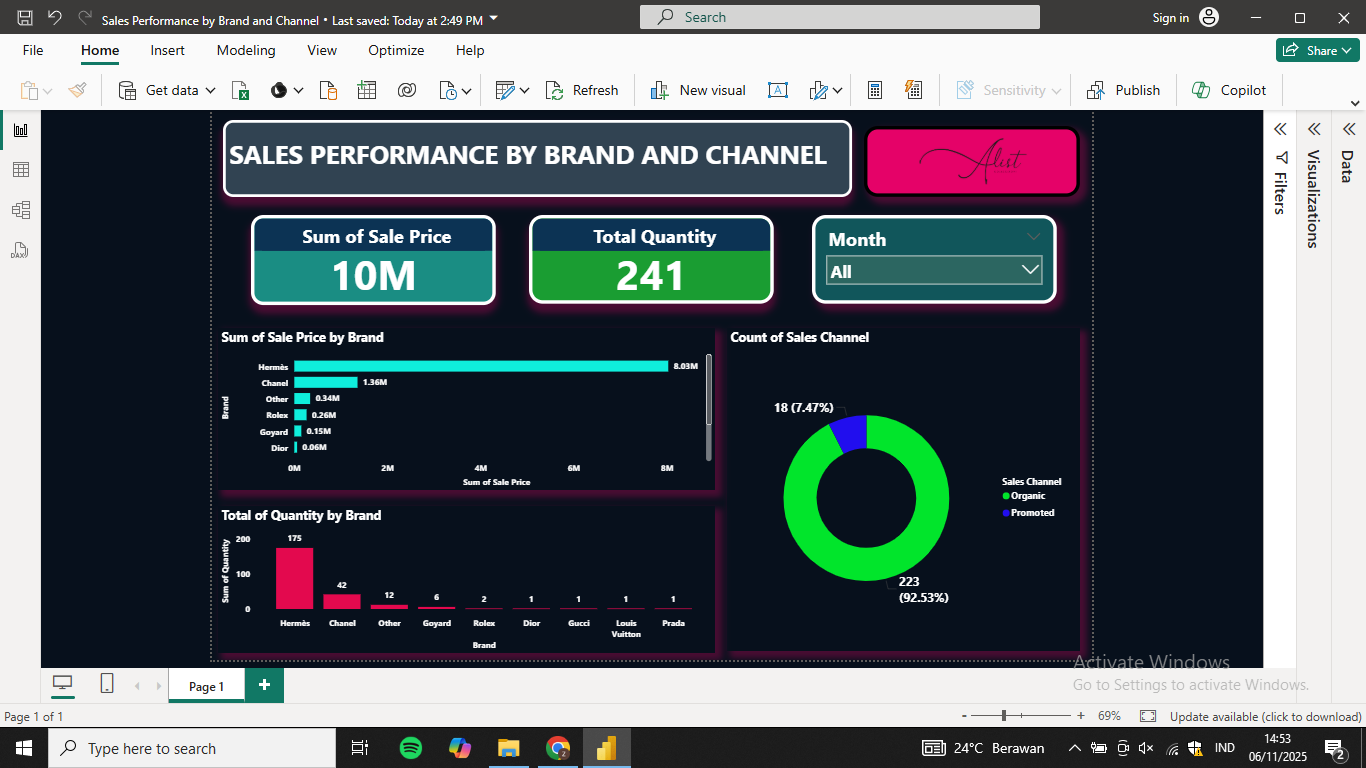

The page's visual inventory and layout, read from the dashboard file:
{"tool":"powerbi","page":{"name":"SALES PERFORMANCE BY BRAND AND CHANNEL","canvas":[1280,800],"ordinal":0},"visuals":[{"type":"card","title":"Sum of Sale Price","fields":{"Values":["clean_data.SalePrice"]},"box":[56.7,152.7,356.4,130.9],"z":0},{"type":"card","title":"Total Quantity","fields":{"Values":["clean_data.Quantity"]},"box":[461.1,152.7,356.4,129.5],"z":1000},{"type":"donutChart","title":"Count of Sales Channel","fields":{"Y":["clean_data.SalesChannel"],"Category":["clean_data.SalesChannel"]},"box":[749.1,317.1,513.5,469.8],"z":2000},{"type":"barChart","title":"Sum of Sale Price by Brand","fields":{"Y":["clean_data.SalePrice"],"Category":["clean_data.Brand"]},"box":[8.7,317.1,722.9,235.6],"z":3000},{"type":"columnChart","title":"Total of Quantity by Brand","fields":{"Y":["clean_data.Quantity"],"Category":["clean_data.Brand"]},"box":[8.7,576,722.9,213.8],"z":4000},{"type":"textbox","box":[16,14.5,914.9,112],"z":5000},{"type":"slicer","fields":{"Values":["clean_data.SaleDate.Variation.Date Hierarchy.Month"]},"box":[872.7,152.7,356.4,129.5],"z":6000},{"type":"image","box":[948.4,23.3,314.2,103.3],"z":7000}]}

Visuals, with their boxes on the page's 1280x800 design canvas (x1, y1, x2, y2). These are canvas units, not pixel positions in the 1366x768 screenshot, which may show the page scaled, cropped or inside an application window:
"Sum of Sale Price" card: bbox(57, 153, 413, 284)
"Total Quantity" card: bbox(461, 153, 818, 282)
"Count of Sales Channel" donutChart: bbox(749, 317, 1263, 787)
"Sum of Sale Price by Brand" barChart: bbox(9, 317, 732, 553)
"Total of Quantity by Brand" columnChart: bbox(9, 576, 732, 790)
textbox: bbox(16, 14, 931, 126)
slicer - clean_data.SaleDate.Variation.Date Hierarchy.Month: bbox(873, 153, 1229, 282)
image: bbox(948, 23, 1263, 127)
